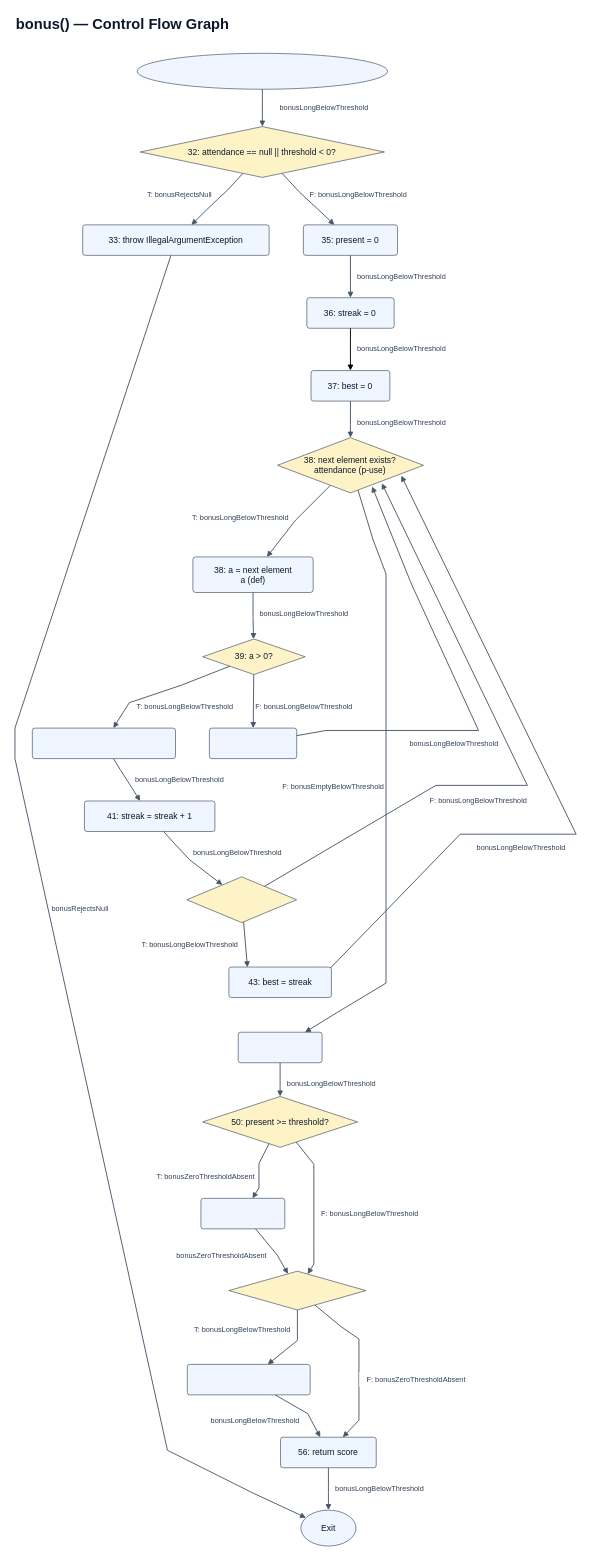
The diagram is 592 pixels wide and 1557 high, and some of its shapes have lost their labels. The centre of each missing label's shape, as x and y in pixels:
"31: bonus(attendance, threshold)" belongs at (262,71).
"40: present = present + 1" belongs at (103,743).
"42: streak > best?" belongs at (241,899).
"46: streak = 0" belongs at (253,743).
"49: score = 0" belongs at (280,1047).
"51: score = 5" belongs at (242,1213).
"53: best >= 5?" belongs at (297,1290).
"54: score = score + 3" belongs at (248,1379).
